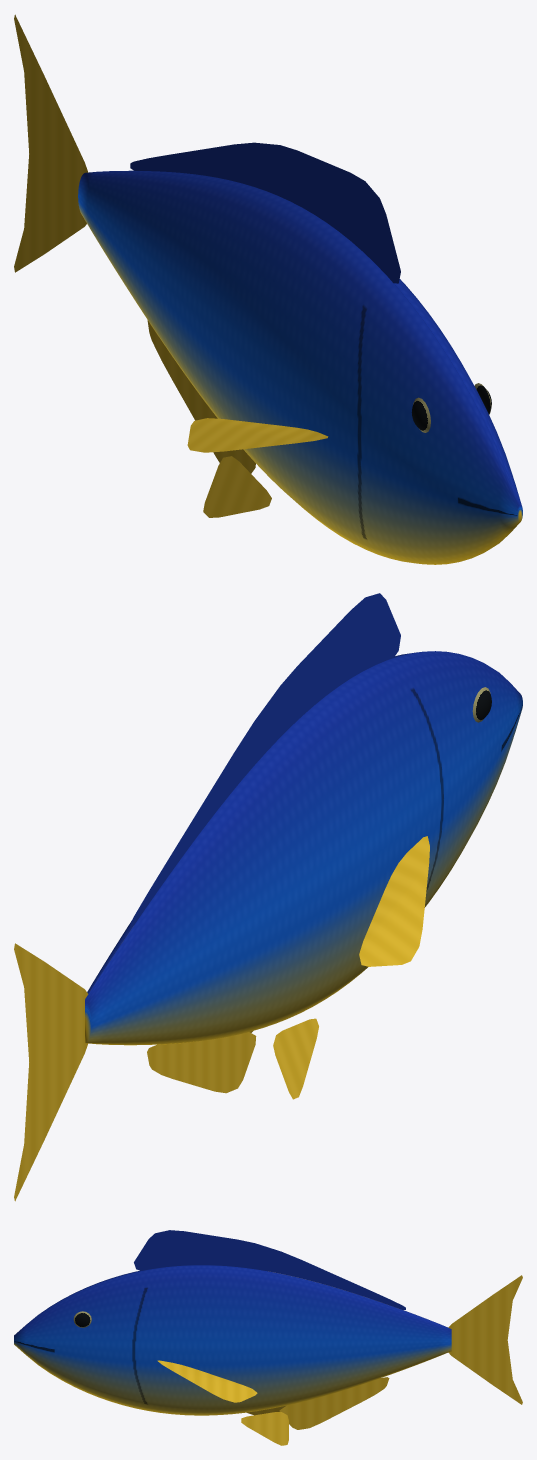
File: damselfish.glb
3 renders of one model, top to bottom at view 1: azimuth 30°, elevation 25°; view 2: azimuth 150°, elevation 25°; view 3: azimuth 270°, elevation 25°, orthographic. The views are drawn at different scales.
Visible parts, largest first — view 1: damselfish_lod0; view 2: damselfish_lod0; view 3: damselfish_lod0.
Boxes of the visible parts, <box> form: damselfish_lod0: <box>14,14,522,564</box>; damselfish_lod0: <box>14,593,522,1201</box>; damselfish_lod0: <box>14,1230,522,1445</box>.
Size of what is drawn, in the model's own units: 0.0227 by 0.04 by 0.09.
Materials: 1 (1 with a texture image).
